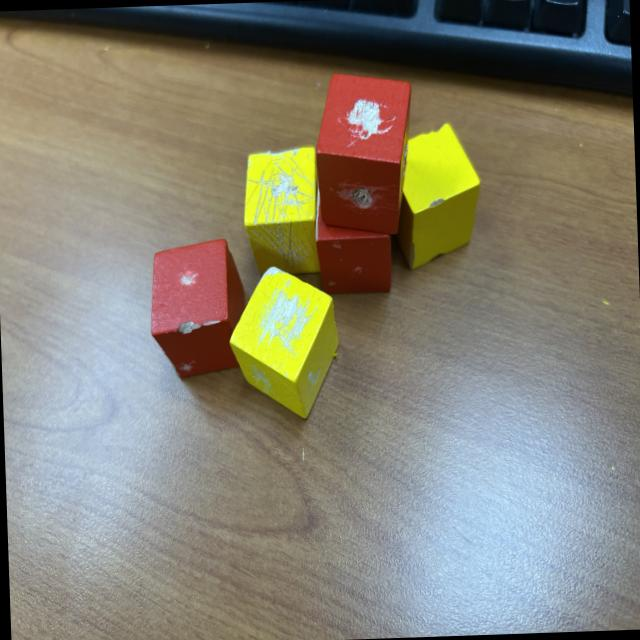broken: (226, 262, 342, 422), (313, 70, 417, 238), (387, 121, 484, 272), (146, 237, 248, 379), (240, 146, 322, 278), (312, 174, 393, 296)
